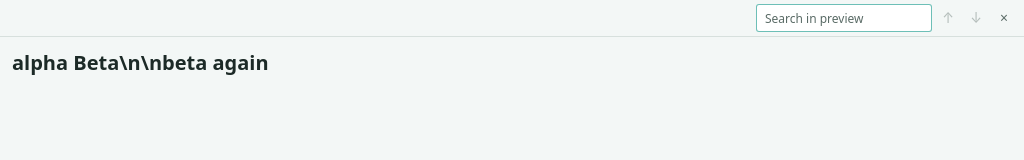
it: MarkdownPreview › 渲染检索：输入关键词后高亮命中并计数，大小写不敏感
Type "beta" into the field with placeholder "Search in preview".
click(844, 18); type("beta")  # box [756,4,932,32]
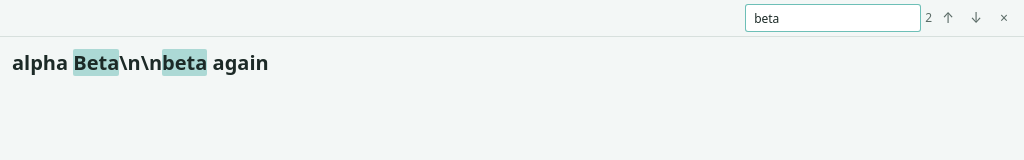
Check: the text with test id "md-search-count" reads "2", box [925,9,932,26]
